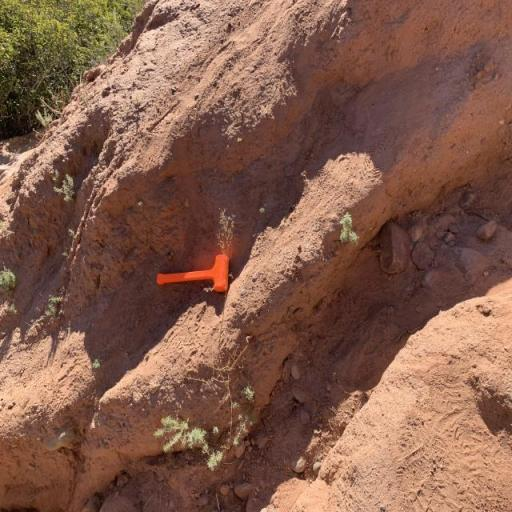mallet: (155, 250, 230, 293)
